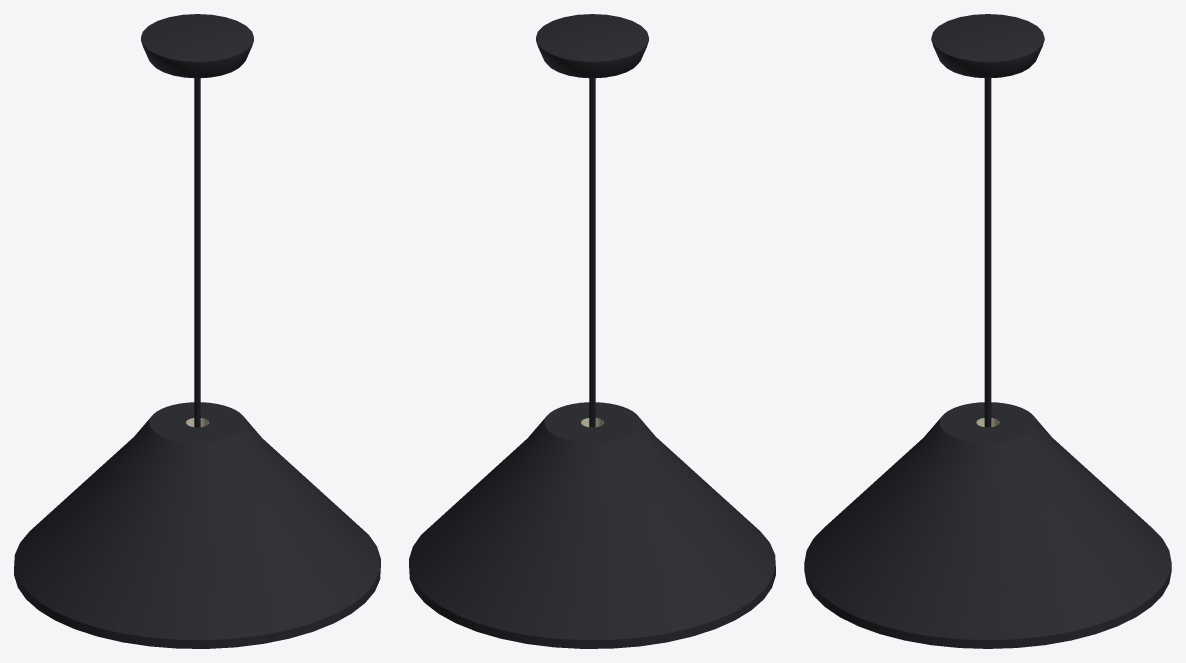
File: PendantLamp.fbx
The picture shows the model from 3 angles, left to right: view 1: azimuth 30°, elevation 25°; view 2: azimuth 150°, elevation 25°; view 3: azimuth 270°, elevation 25°; orthographic projection.
Visible parts, largest first — view 1: PendantLamp; view 2: PendantLamp; view 3: PendantLamp.
Boxes of the visible parts, x1,y1,x2,y2 form: PendantLamp: [14, 14, 380, 648]; PendantLamp: [409, 14, 775, 648]; PendantLamp: [804, 14, 1171, 648].
Bounding box in the file's own units: 0.38 × 0.61 × 0.38.
